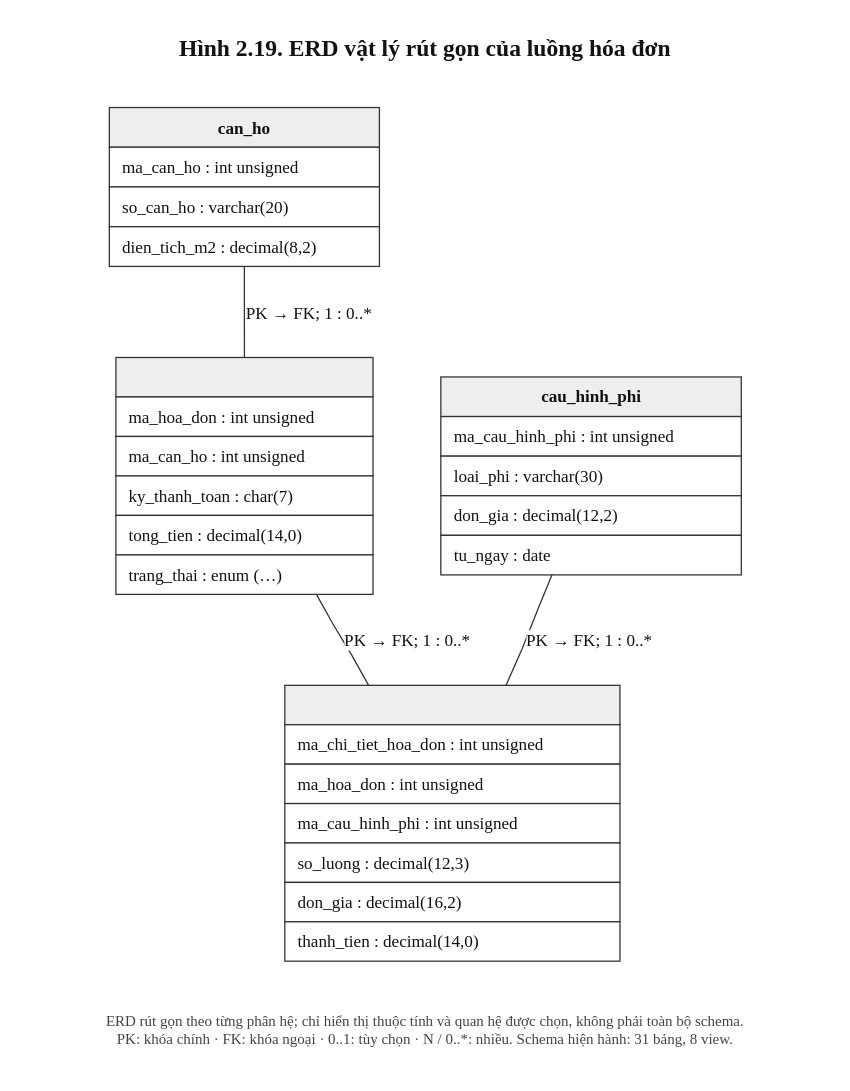
The diagram is 850 pixels wide and 1091 high, and some of its shapes have lost their labels. Here are the shapes that lost their labels. From the top down, the box of each, then its label:
(115, 356, 373, 397): hoa_don
(284, 684, 620, 725): chi_tiet_hoa_don
